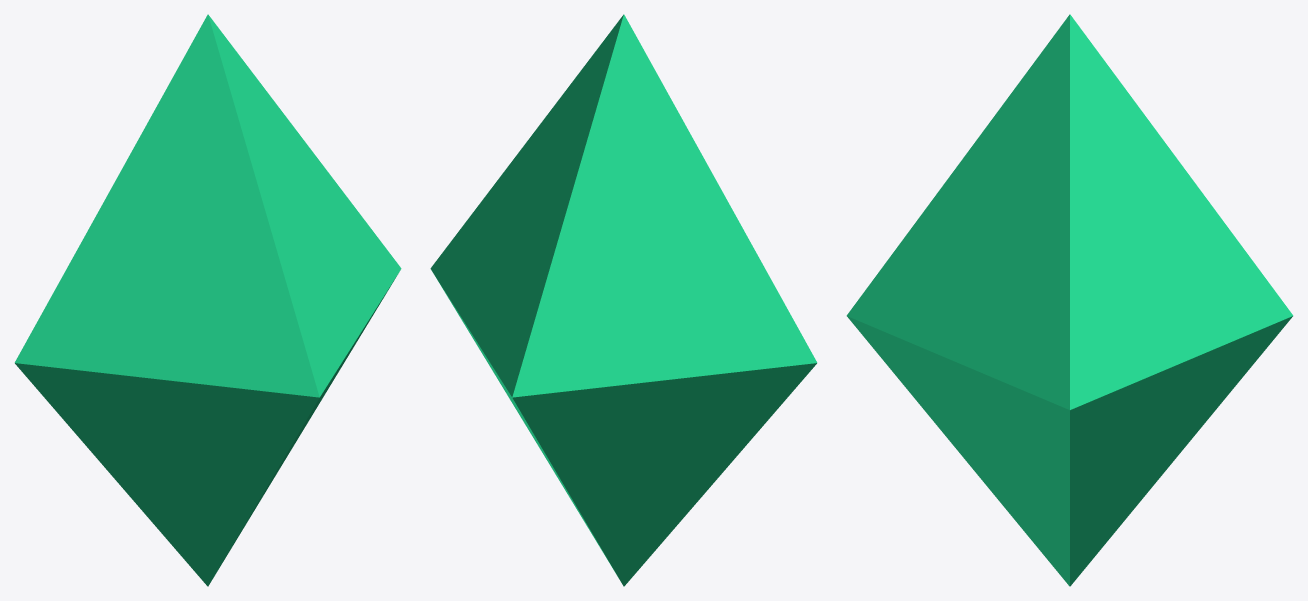
Rendered from TestStartPoint.glb.
The picture shows the model from 3 angles, left to right: view 1: azimuth 30°, elevation 25°; view 2: azimuth 150°, elevation 25°; view 3: azimuth 270°, elevation 25°; orthographic projection.
Visible parts, largest first — view 1: TestStartPoint_1; view 2: TestStartPoint_1; view 3: TestStartPoint_1.
Boxes of the visible parts, box(x1,y1,x2,y2) form: TestStartPoint_1: box(14, 14, 401, 586); TestStartPoint_1: box(430, 14, 817, 586); TestStartPoint_1: box(846, 14, 1293, 586).
Size of the model in its own units: 4.31 by 6.09 by 4.31.
